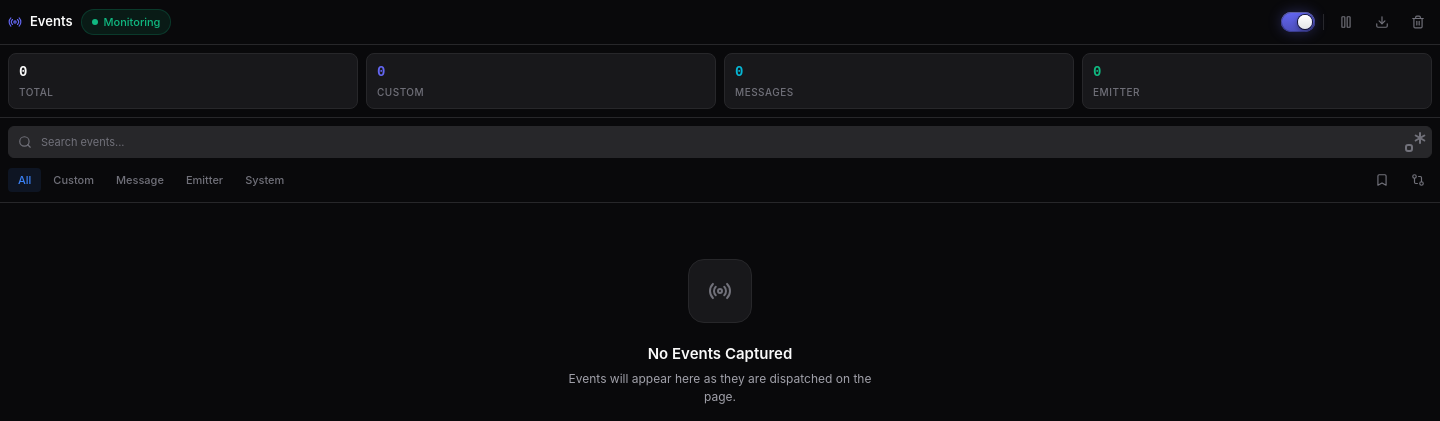
it: EventsTab › persists the monitor toggle to the background
The image size is (1440, 421).
What coordinates should you click on to do the following:
click the switch named "Toggle event monitoring"
I would click on:
 (1298, 22)
Its box is [1281,12,1315,32].
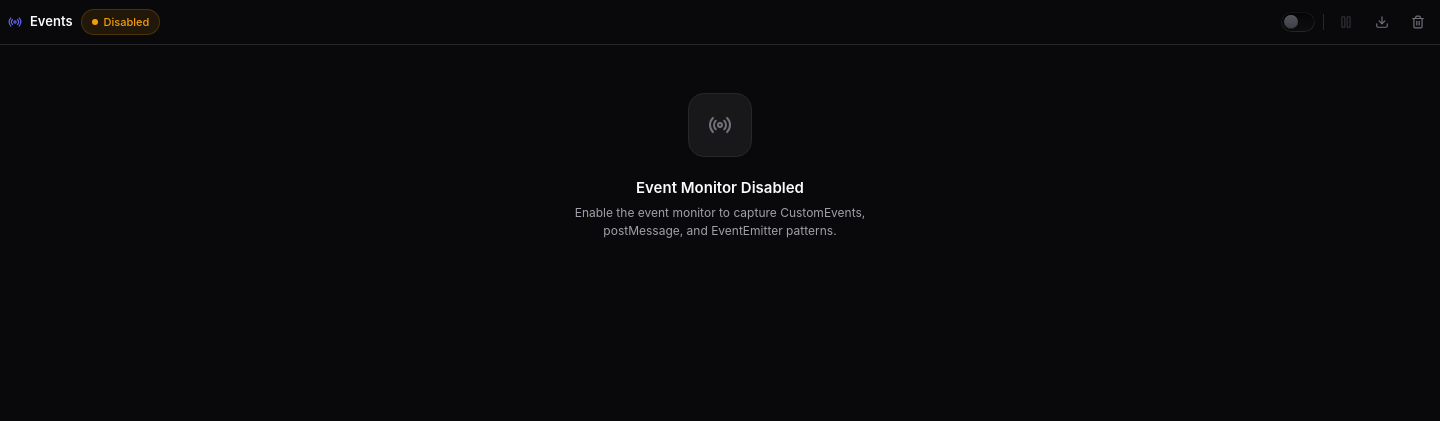
Now the heading "Event Monitor Disabled" is shown, box [636,177,804,200]
